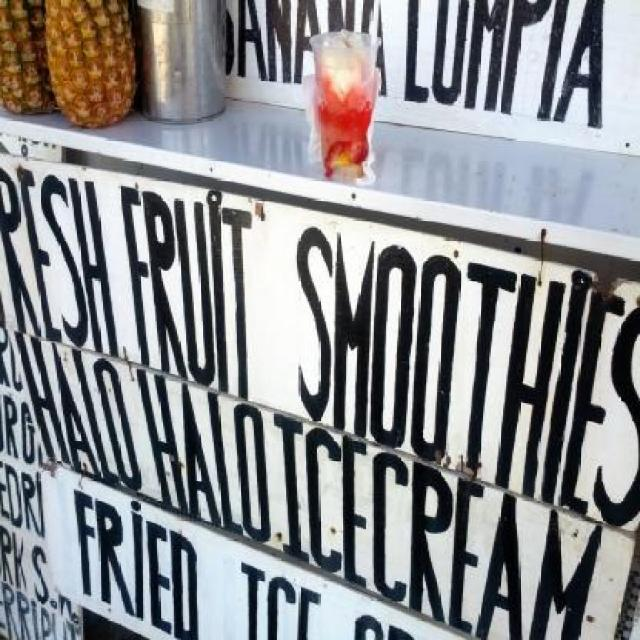Pineapple: (40, 0, 136, 126), (0, 0, 52, 115)
